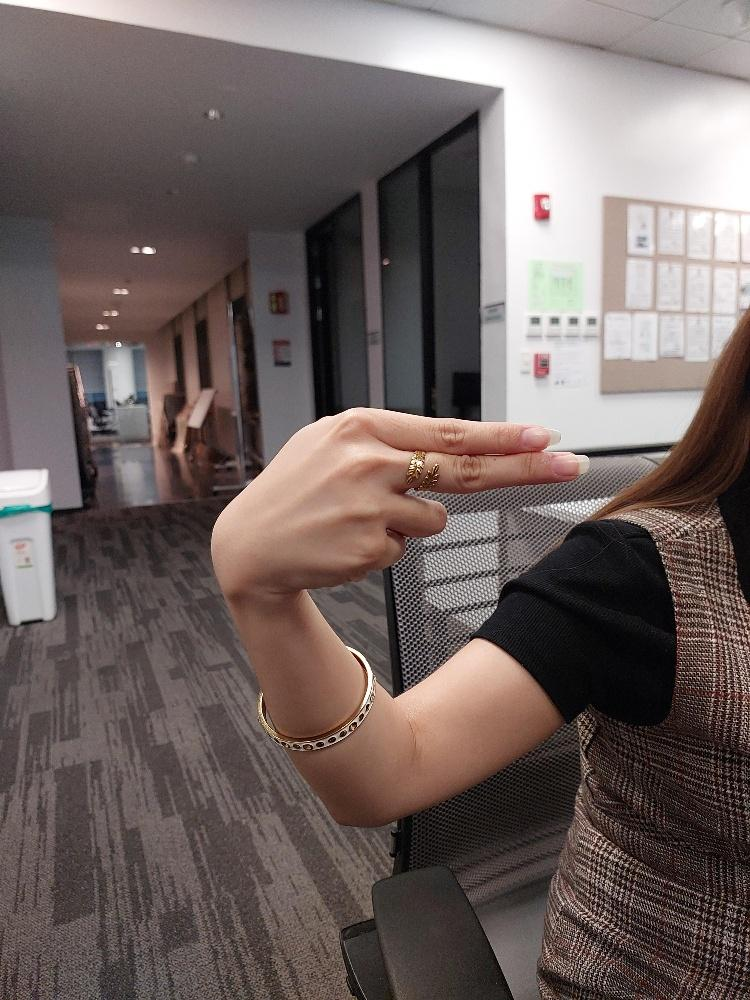h: (205, 401, 590, 600)
